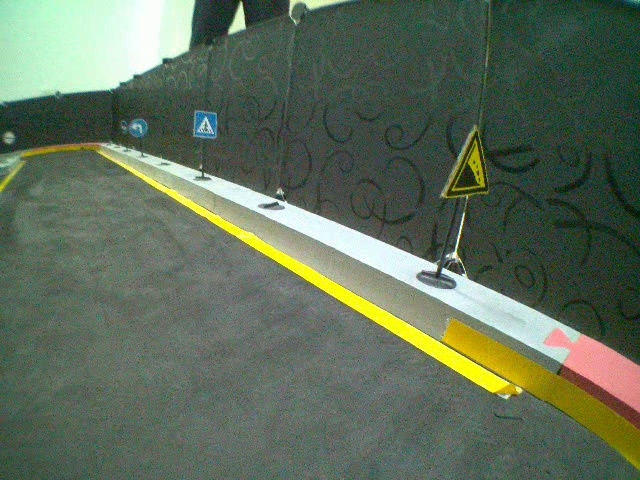crossing: (190, 109, 218, 141)
fast: (438, 123, 504, 205)
turn: (129, 117, 149, 138)
